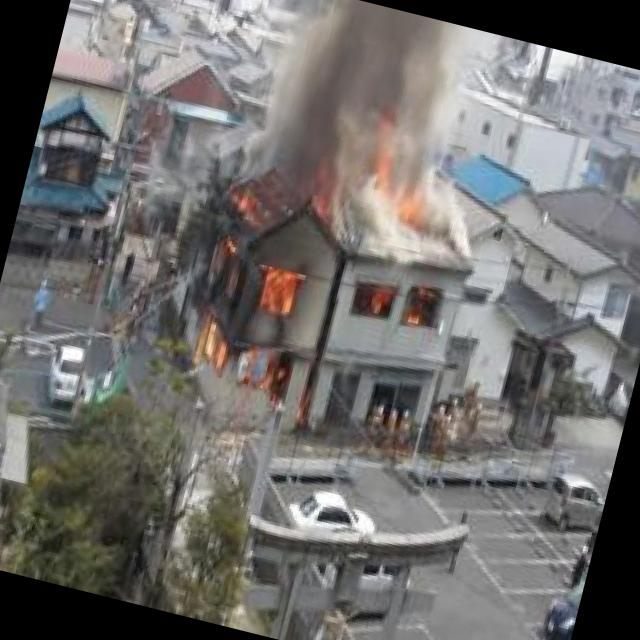Fire: (185, 194, 325, 398), (350, 268, 400, 324)
Smoke: (251, 0, 480, 253)
